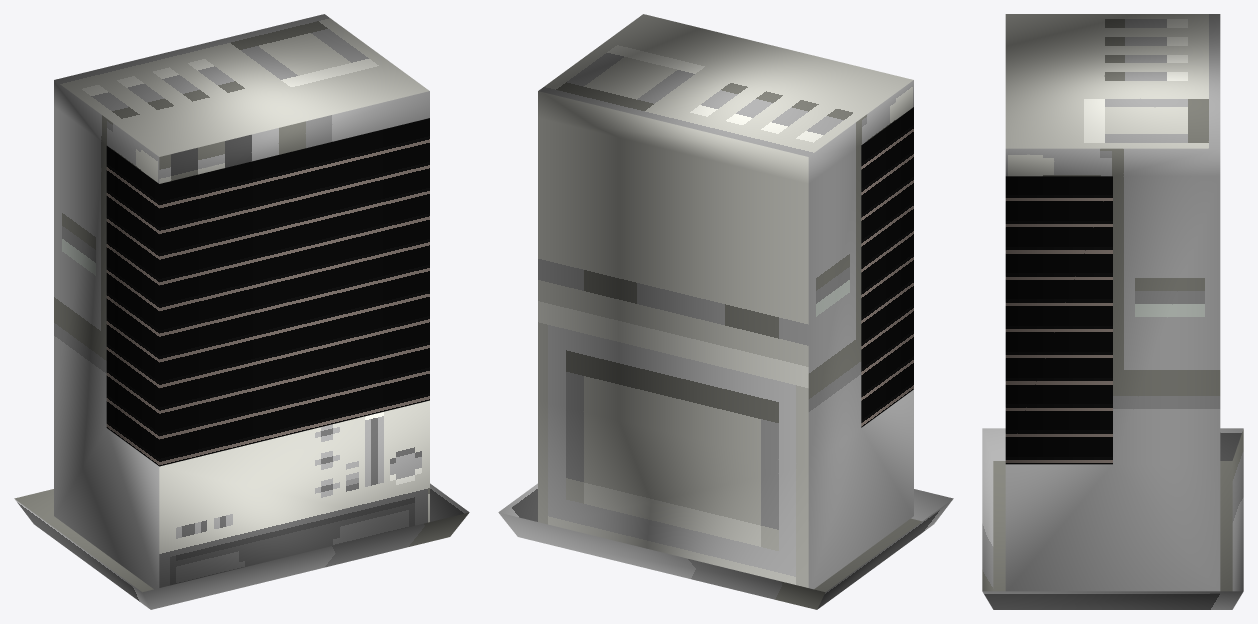
3 views of the same model, side by side, from view 1: azimuth 30°, elevation 25°; view 2: azimuth 150°, elevation 25°; view 3: azimuth 270°, elevation 25° (orthographic). The views are drawn at different scales.
Parts seen in each view (by area): view 1: 3545IMOT01_18; view 2: 3545IMOT01_18; view 3: 3545IMOT01_18.
Boxes of the visible parts, x1=… form: 3545IMOT01_18: x1=14, y1=14, x2=469, y2=609; 3545IMOT01_18: x1=498, y1=14, x2=953, y2=609; 3545IMOT01_18: x1=982, y1=14, x2=1243, y2=609.
Size of the model in its own units: 0.9512 by 1.24 by 0.6445.
4 materials, 4 textured.
